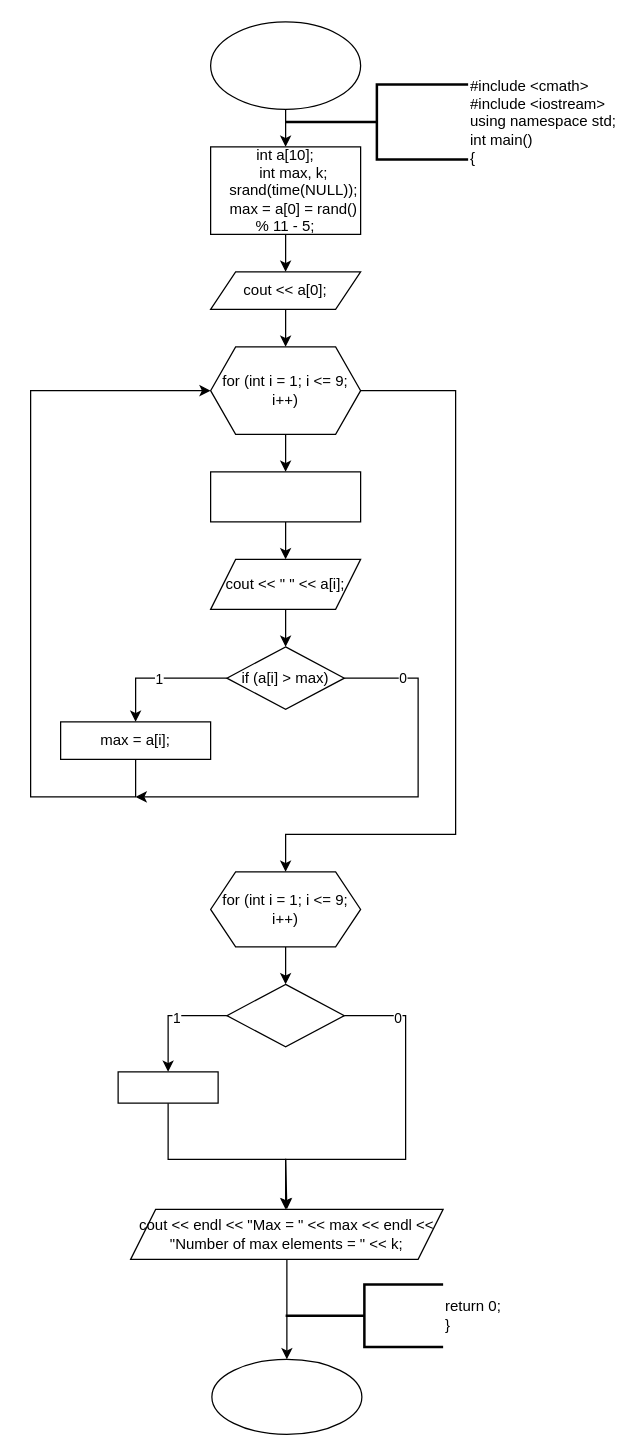
The diagram is 639 pixels wide and 1456 high, and some of its shapes have lost their labels. Each missing label, with the centre of its shape:
a[i] = rand() % 11 - 5;: the point at 285,496
if (a[i] == max): the point at 285,1015
k++;: the point at 167,1087
Запуск: the point at 285,65
Конец: the point at 286,1396
